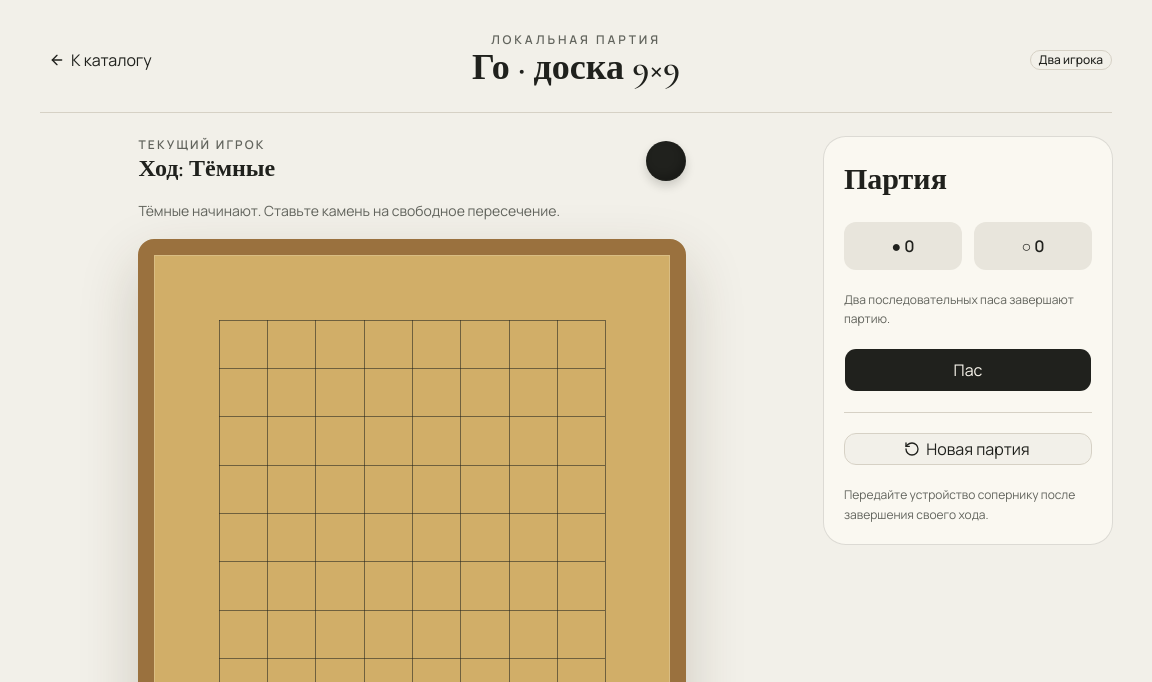
HotSeatGame result integration › finishes an immediate Go double pass as a two-move draw
This screenshot has width=1152, height=682.
Click the button "Пас" at {"x": 968, "y": 370}, box top-left (844, 348), bottom-right (1092, 392)
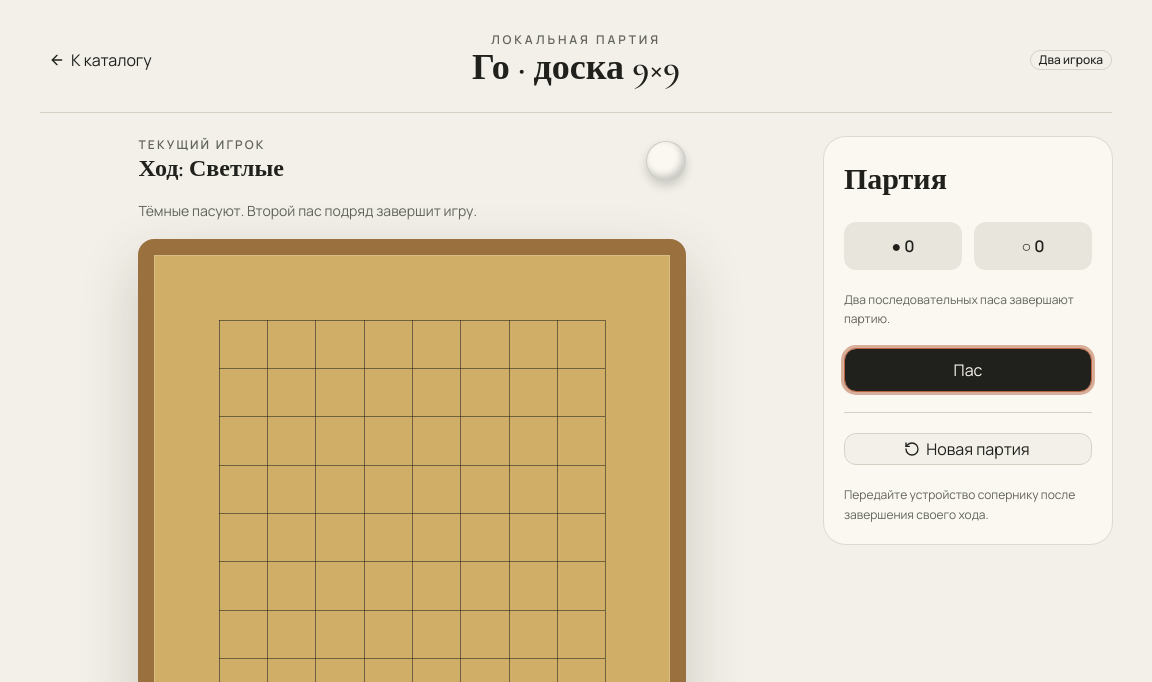
Click the button "Пас" at {"x": 968, "y": 370}, box top-left (844, 348), bottom-right (1092, 392)
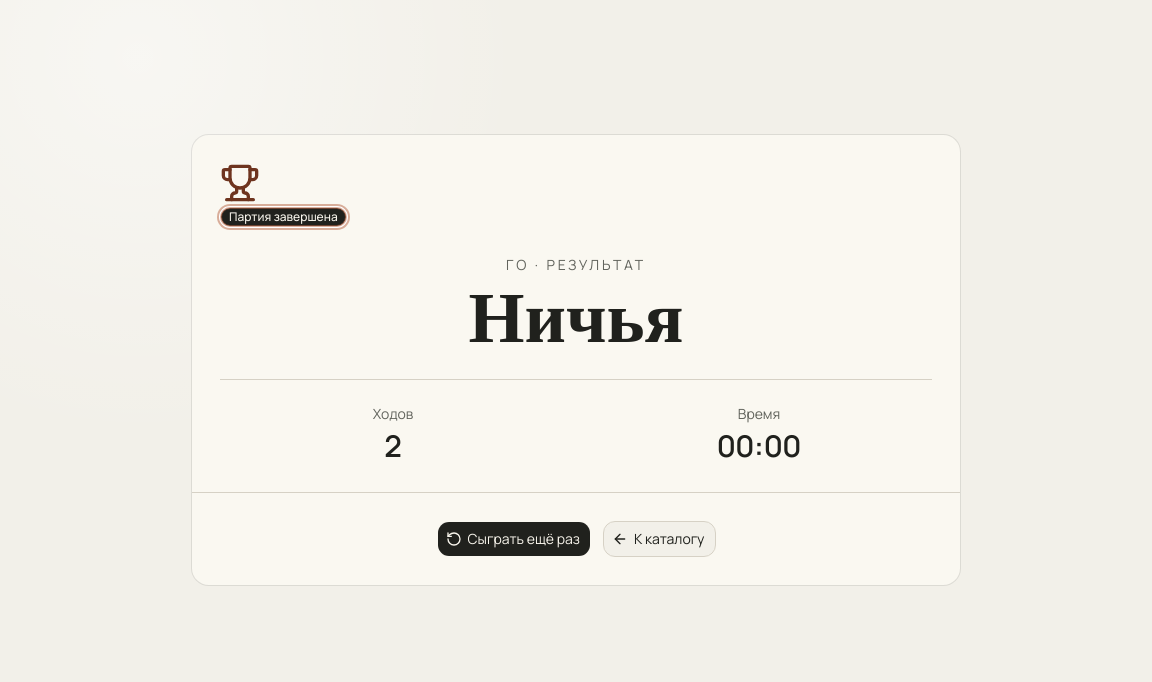
Check: the heading "Партия завершена" is shown, box top-left (220, 207), bottom-right (347, 227)
Check: the text "Го · результат" is shown, box top-left (506, 255), bottom-right (646, 274)
Check: the heading "Ничья" is shown, box top-left (468, 275), bottom-right (684, 363)
